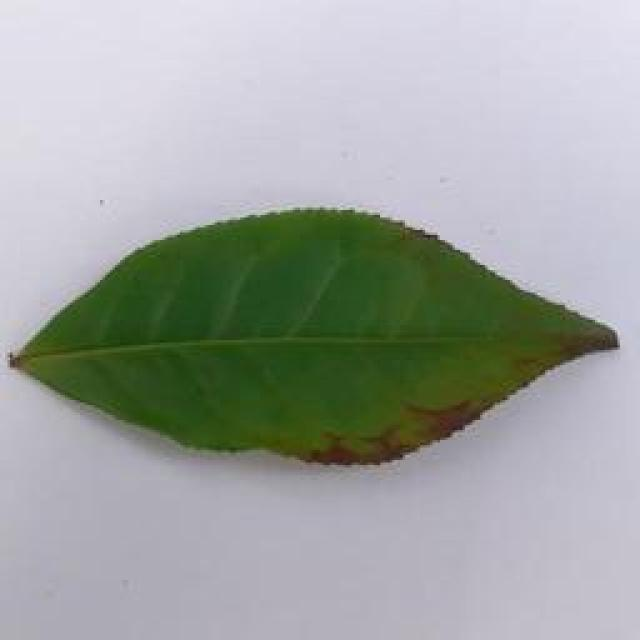Red Leaf Spot: (0, 198, 640, 481)
